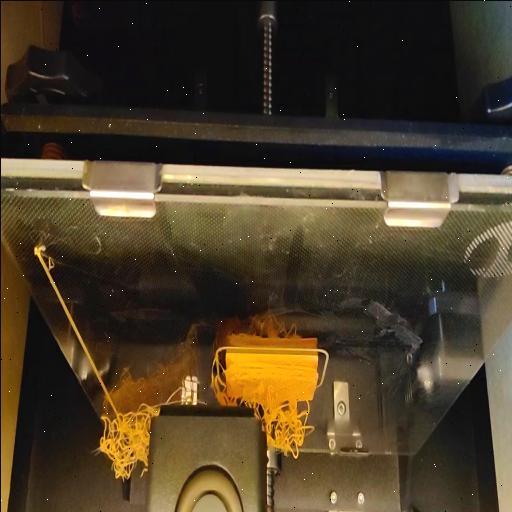spaghetti: (96, 403, 148, 482), (268, 396, 310, 458), (213, 380, 265, 409)
